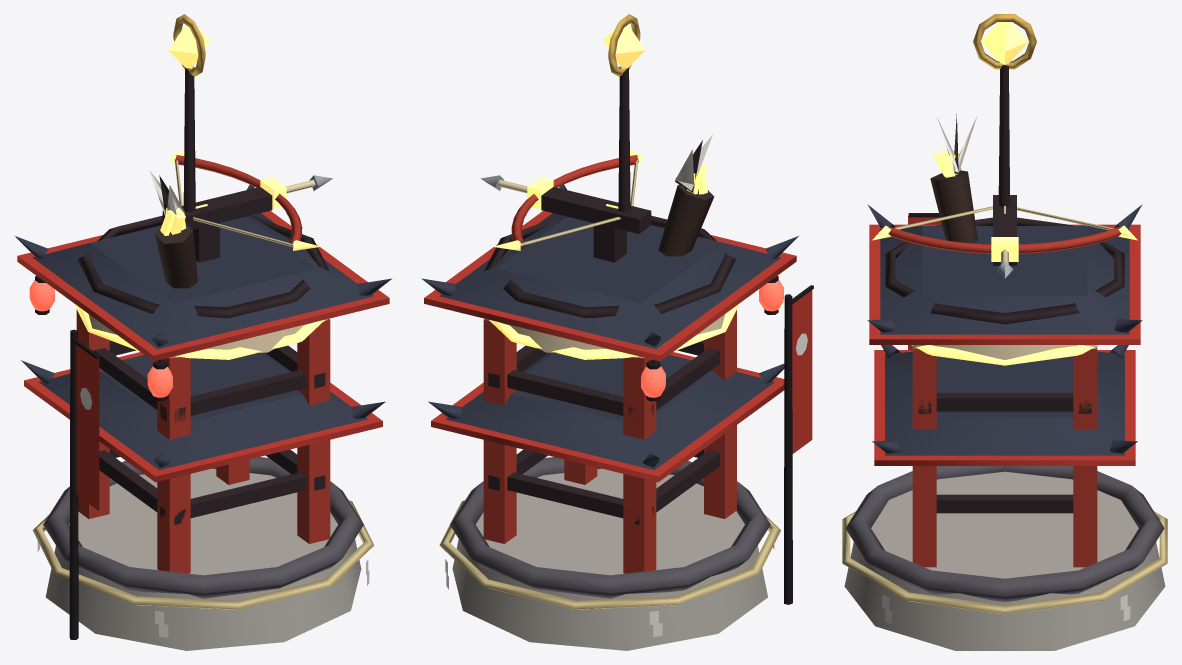
File: tower_archer_eagleEye.glb
The picture shows the model from 3 angles, left to right: view 1: azimuth 30°, elevation 25°; view 2: azimuth 150°, elevation 25°; view 3: azimuth 270°, elevation 25°; orthographic projection.
Parts seen in each view (by area): view 1: base, deco_eave_0_roof, deco_eave_1_roof, base_rim, deco_eave_0_rim, post_wn, post_en, deco_eave_1_rim, deco_shimenawa_rope, rail, deco_nobori_cloth, deco_nobori_pole (+21 smaller); view 2: base, deco_eave_0_roof, deco_eave_1_roof, base_rim, deco_eave_0_rim, post_ws, deco_eave_1_rim, post_es, deco_shimenawa_rope, post_wn, rail, deco_nobori_cloth (+21 smaller); view 3: base, deco_eave_0_roof, deco_eave_1_roof, base_rim, deco_eave_0_rim, deco_eave_1_rim, post_en, post_es, deco_shimenawa_rope, rail, beam_z_0_e, beam_z_1_e (+11 smaller).
Part boxes in pixels (<box>): base: <box>45,468,361,650</box>; deco_eave_0_roof: <box>32,213,373,349</box>; deco_eave_1_roof: <box>39,352,367,470</box>; base_rim: <box>43,457,363,598</box>; deco_eave_0_rim: <box>17,211,389,361</box>; post_wn: <box>157,357,190,573</box>; post_en: <box>297,318,330,543</box>; deco_eave_1_rim: <box>24,352,382,482</box>; deco_shimenawa_rope: <box>32,500,374,609</box>; rail: <box>77,215,329,318</box>; deco_nobori_cloth: <box>76,345,99,510</box>; deco_nobori_pole: <box>69,329,78,639</box>; base: <box>452,468,767,650</box>; deco_eave_0_roof: <box>439,213,780,348</box>; deco_eave_1_roof: <box>446,352,774,470</box>; base_rim: <box>450,457,770,598</box>; deco_eave_0_rim: <box>424,211,796,361</box>; post_ws: <box>623,357,656,573</box>; deco_eave_1_rim: <box>431,352,784,482</box>; post_es: <box>483,319,516,543</box>; deco_shimenawa_rope: <box>439,500,780,609</box>; post_wn: <box>704,310,736,518</box>; rail: <box>484,215,735,318</box>; deco_nobori_cloth: <box>792,290,812,453</box>; base: <box>844,471,1165,650</box>; deco_eave_0_roof: <box>880,226,1129,334</box>; deco_eave_1_roof: <box>885,351,1124,455</box>; base_rim: <box>845,466,1164,601</box>; deco_eave_0_rim: <box>869,224,1140,344</box>; deco_eave_1_rim: <box>874,350,1135,465</box>; post_en: <box>912,347,936,567</box>; post_es: <box>1073,347,1097,567</box>; deco_shimenawa_rope: <box>842,511,1167,614</box>; rail: <box>885,217,1124,324</box>; beam_z_0_e: <box>936,494,1073,513</box>; beam_z_1_e: <box>936,393,1073,411</box>.
Bounding box in the file's own units: 0.4387 × 0.778 × 0.4052.
